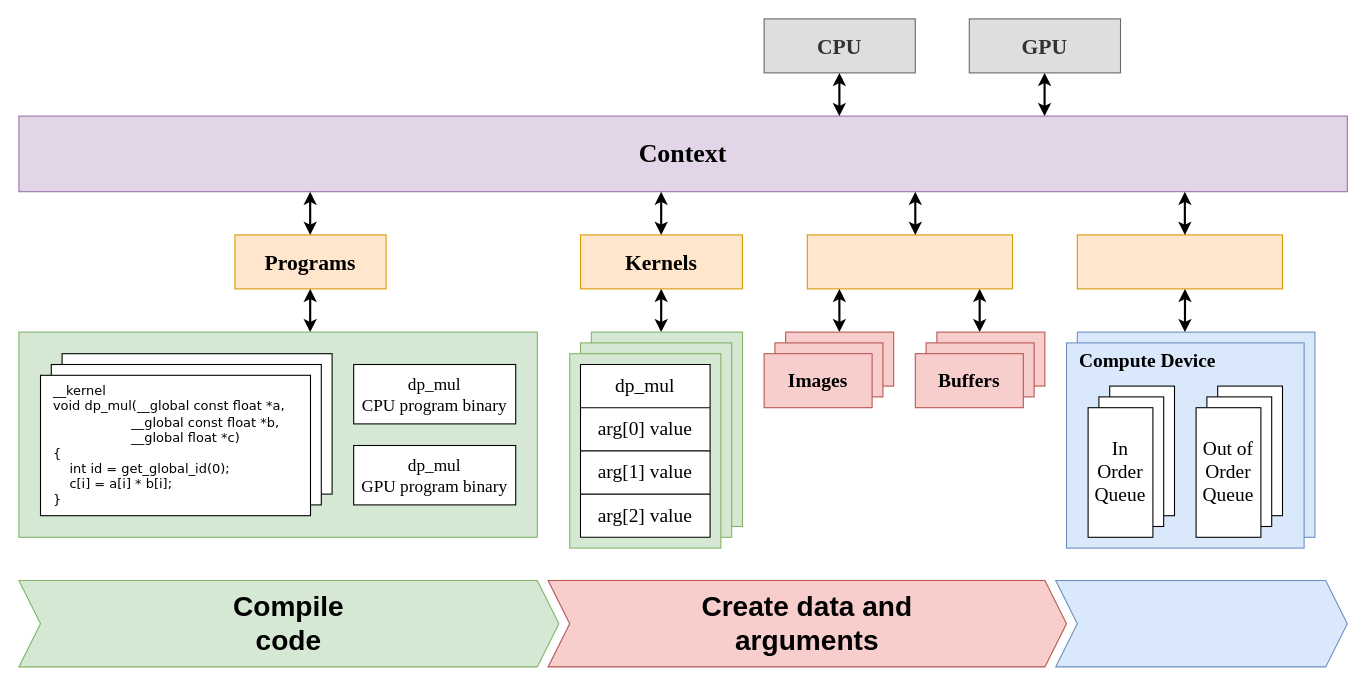
The diagram is 1366 pixels wide and 686 high, and some of its shapes have lost their labels. Here are the shapes that lost their labels. From the top down, the centre of each, then its label:
point (909, 261): Memory Objects
point (1179, 261): Command Queues
point (1201, 623): Send to execution
